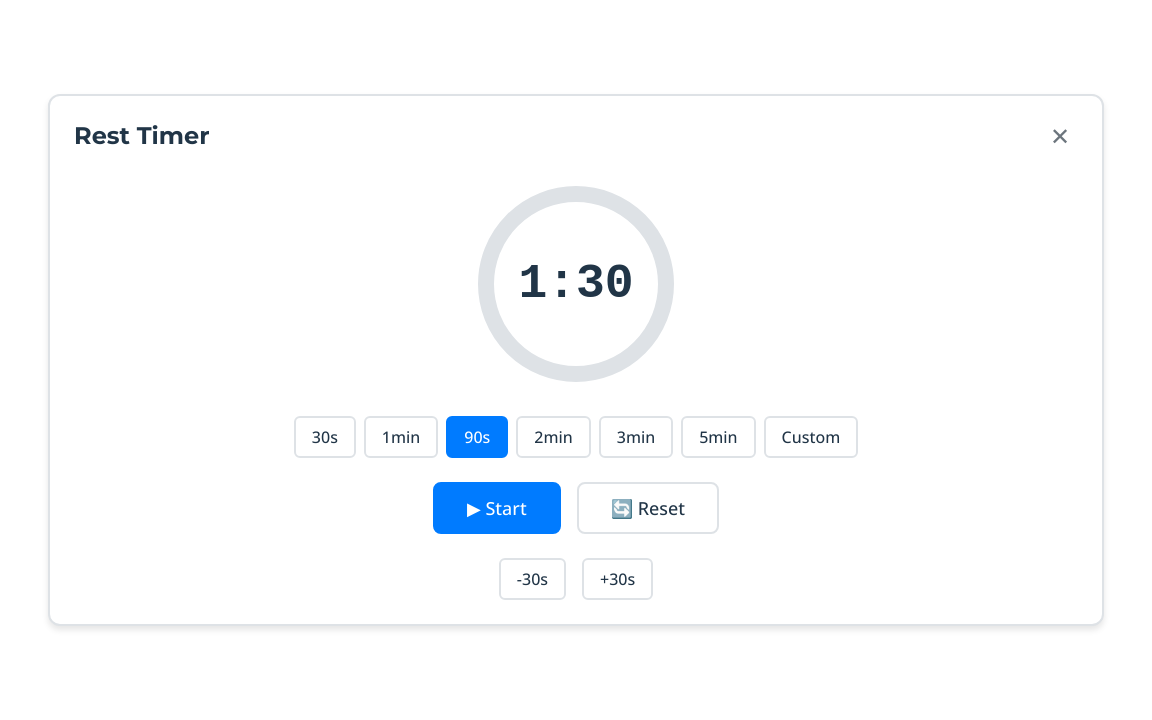
Test: RestTimer › changes preset time
This screenshot has width=1152, height=720.
Expected: the text "1:30" is shown, top-left (518, 246), bottom-right (634, 322)
Click on 1min preset
Click the button with aria-label "Set rest time to 1min": coordinates (401, 437) top-left (364, 416), bottom-right (438, 458)
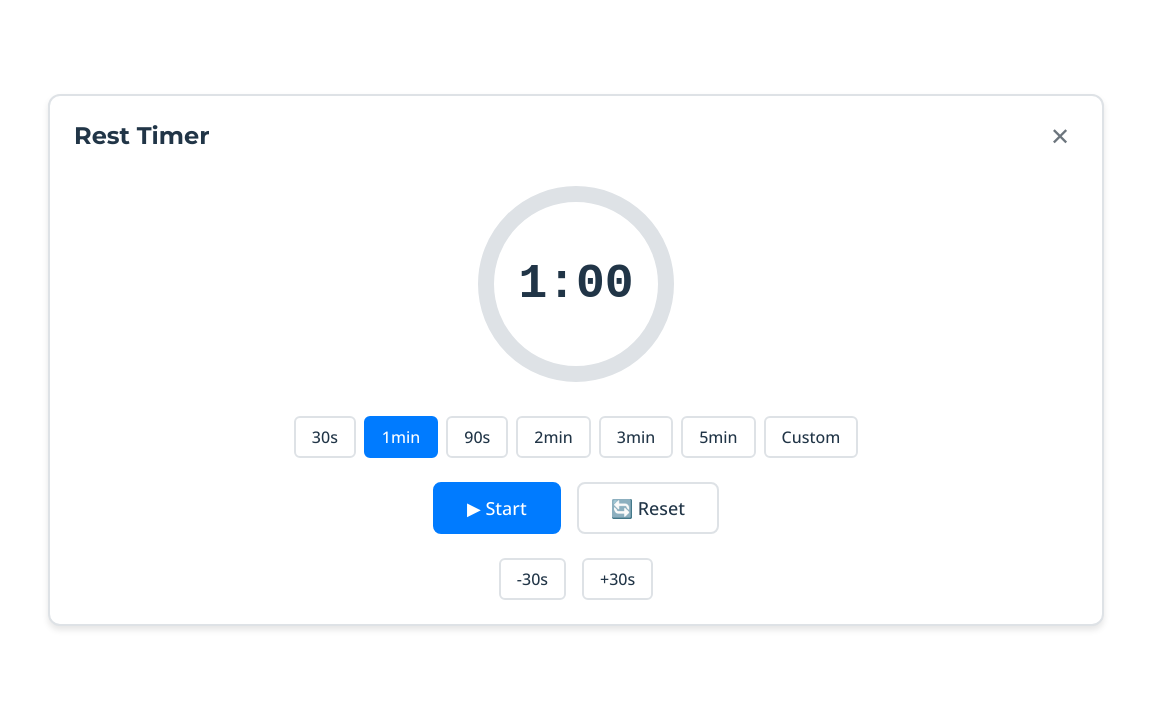
Now the text "1:00" is shown, box top-left (518, 246), bottom-right (634, 322)
